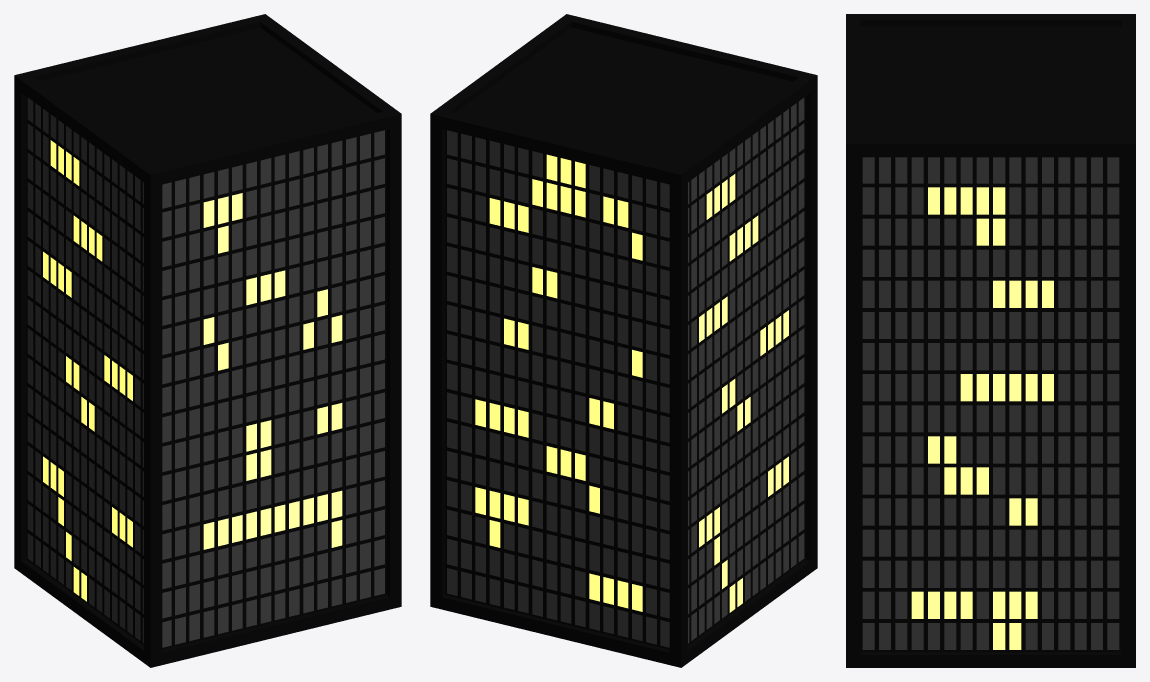
The model's file is building.fbx.
3 views of the same model, side by side, from view 1: azimuth 30°, elevation 25°; view 2: azimuth 150°, elevation 25°; view 3: azimuth 270°, elevation 25° (orthographic). The views are drawn at different scales.
Visible parts, largest first — view 1: Cube; view 2: Cube; view 3: Cube.
Boxes of the visible parts, x1,y1,x2,y2 form: Cube: (14, 14, 401, 667); Cube: (430, 14, 817, 667); Cube: (846, 14, 1135, 667).
Size of the model in its own units: 4316 by 8095 by 4060.
